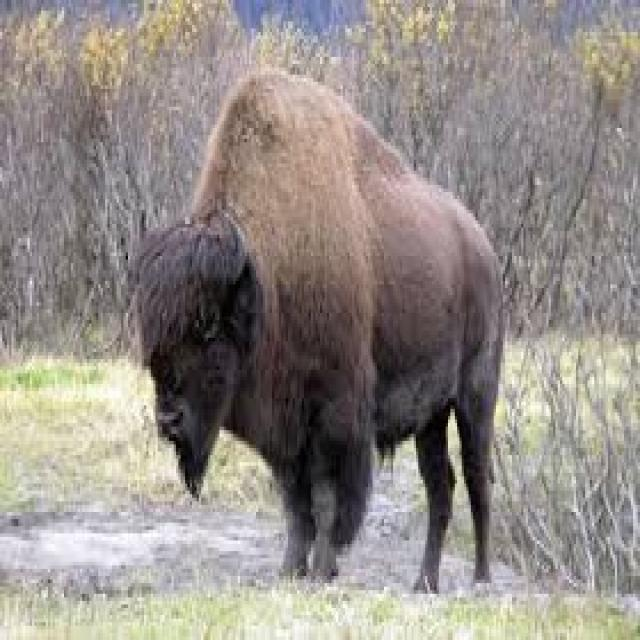Bison: (117, 56, 518, 600)
